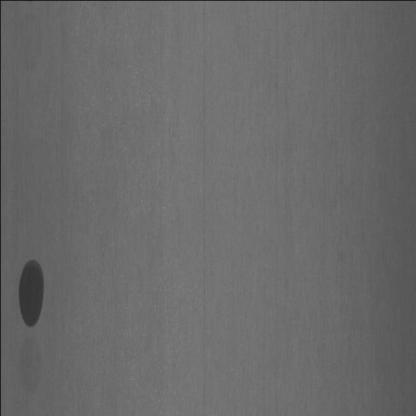oil_spot: (11, 250, 46, 338)
